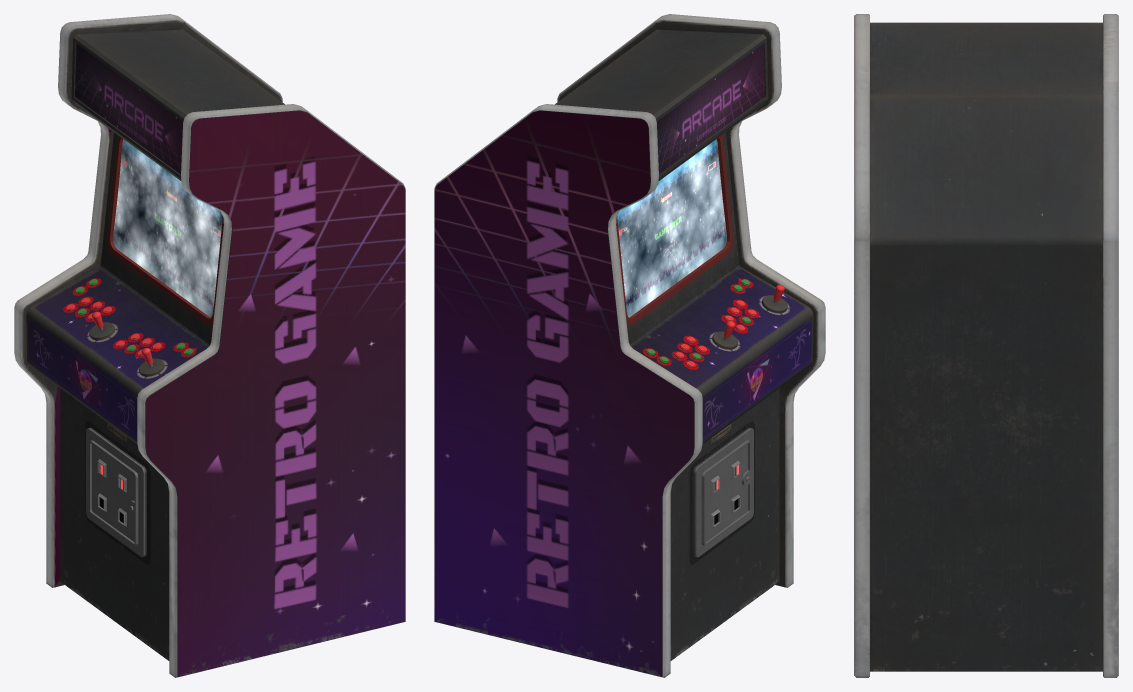
The model's file is SM_RetroArcade_01.fbx.
The picture shows the model from 3 angles, left to right: view 1: azimuth 30°, elevation 25°; view 2: azimuth 150°, elevation 25°; view 3: azimuth 270°, elevation 25°; orthographic projection.
Visible parts, largest first — view 1: SM_RetroArcade_01_LOD0; view 2: SM_RetroArcade_01_LOD0; view 3: SM_RetroArcade_01_LOD0.
Part boxes in pixels (<box>): SM_RetroArcade_01_LOD0: <box>14,14,405,677</box>; SM_RetroArcade_01_LOD0: <box>434,14,825,677</box>; SM_RetroArcade_01_LOD0: <box>854,14,1118,677</box>.
Bounding box in the file's own units: 95.19 × 82.36 × 193.
2 materials, 2 textured.
